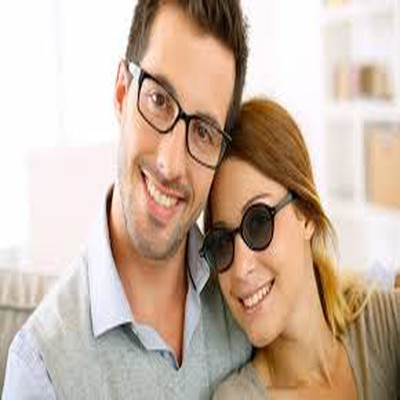eywear: (106, 65, 231, 166), (205, 197, 286, 268)
